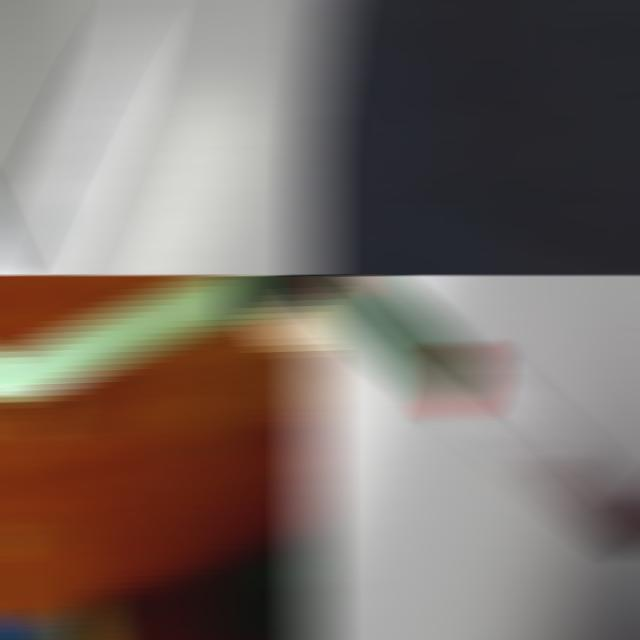Knife: (301, 275, 640, 555), (0, 0, 161, 275), (0, 275, 325, 404)
